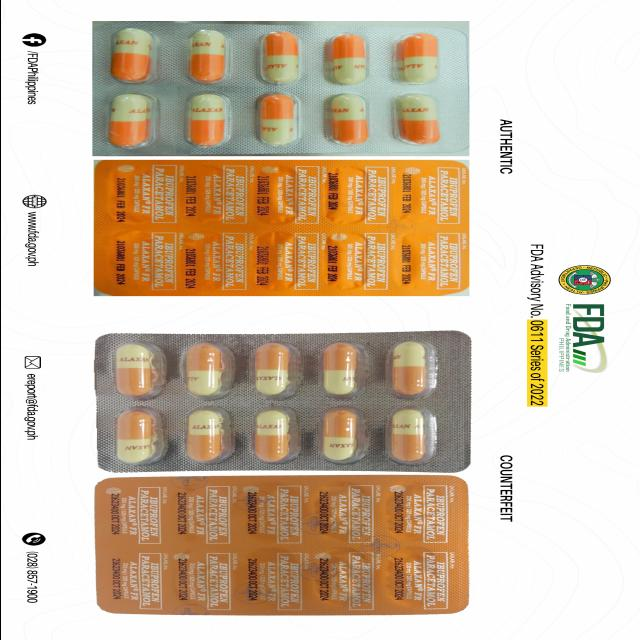authentic: (92, 158, 474, 298), (92, 18, 470, 156)
counterfeit: (96, 331, 474, 471), (90, 477, 473, 613)
